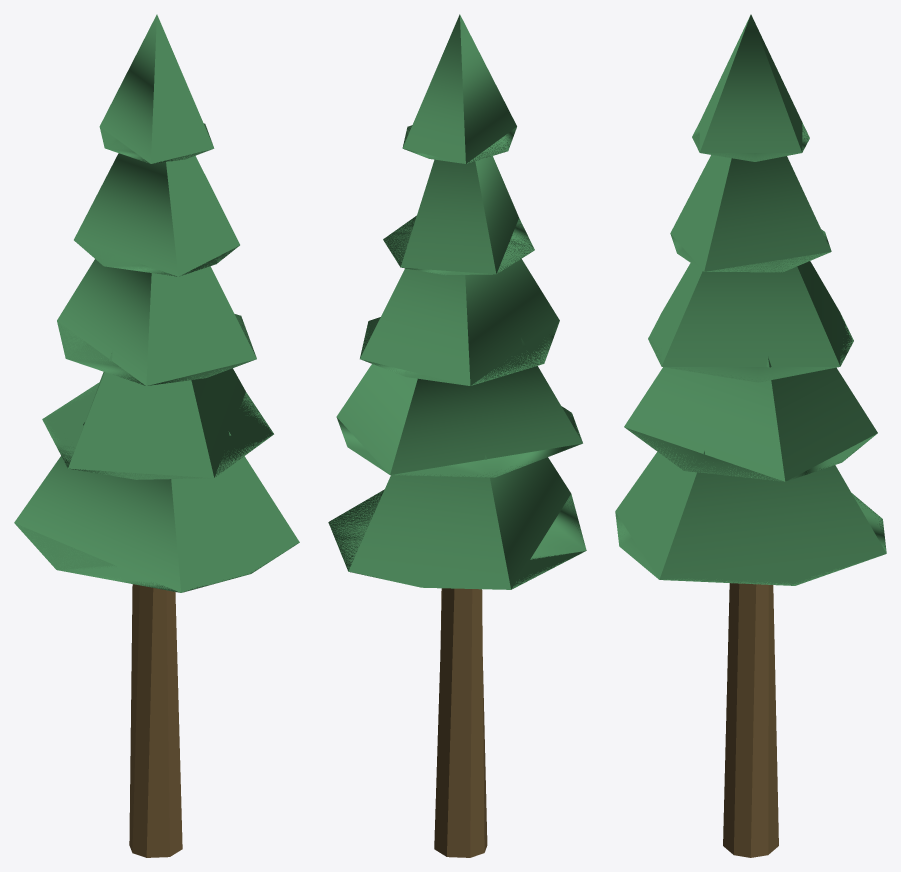
Rendered from Nadelbaum 2.fbx.
3 renders of one model, left to right at view 1: azimuth 30°, elevation 25°; view 2: azimuth 150°, elevation 25°; view 3: azimuth 270°, elevation 25°, orthographic.
Parts seen in each view (by area): view 1: Pyramide_4, Pyramide_3, Pyramide_2, Pyramide_1, stamm, Pyramide; view 2: Pyramide_4, Pyramide_3, Pyramide_2, stamm, Pyramide_1, Pyramide; view 3: Pyramide_4, Pyramide_3, Pyramide_2, Pyramide_1, stamm, Pyramide.
Part boxes in pixels (left/top/right/bottom): Pyramide_4: left=14, top=422, right=299, bottom=592; Pyramide_3: left=42, top=350, right=273, bottom=479; Pyramide_2: left=57, top=259, right=256, bottom=385; Pyramide_1: left=74, top=153, right=239, bottom=276; stamm: left=129, top=584, right=182, bottom=857; Pyramide: left=99, top=14, right=214, bottom=163; Pyramide_4: left=328, top=455, right=586, bottom=589; Pyramide_3: left=336, top=338, right=582, bottom=477; Pyramide_2: left=360, top=259, right=559, bottom=385; stamm: left=434, top=588, right=487, bottom=857; Pyramide_1: left=383, top=156, right=534, bottom=275; Pyramide: left=402, top=14, right=516, bottom=163; Pyramide_4: left=615, top=450, right=886, bottom=585; Pyramide_3: left=624, top=357, right=877, bottom=481; Pyramide_2: left=648, top=261, right=853, bottom=382; Pyramide_1: left=670, top=155, right=831, bottom=272; stamm: left=723, top=583, right=778, bottom=857; Pyramide: left=692, top=14, right=809, bottom=161.
Size of the model in its own units: 398 by 1419 by 419.
